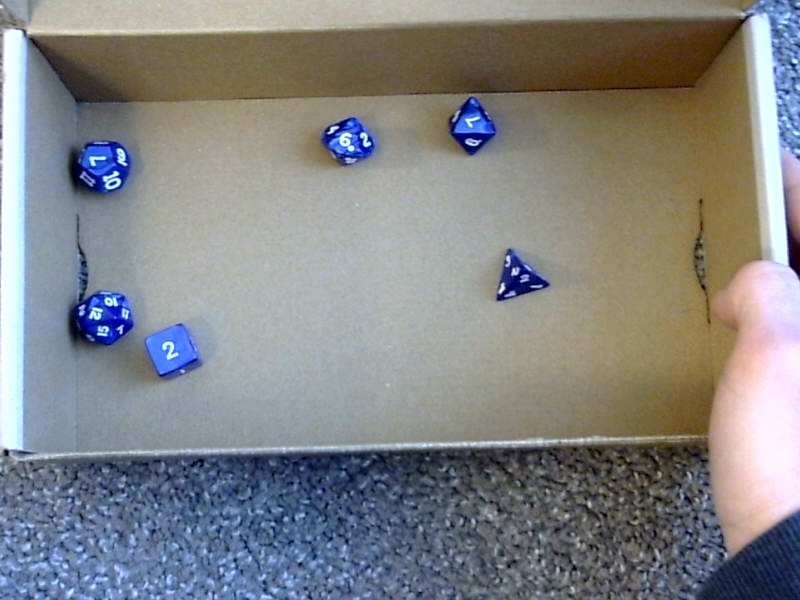d10 6: (318, 112, 377, 167)
d12 7: (64, 131, 136, 199)
d20 12: (64, 282, 135, 350)
d4 2: (488, 244, 551, 303)
d6 2: (139, 322, 206, 380)
d8 7: (441, 93, 497, 157)
